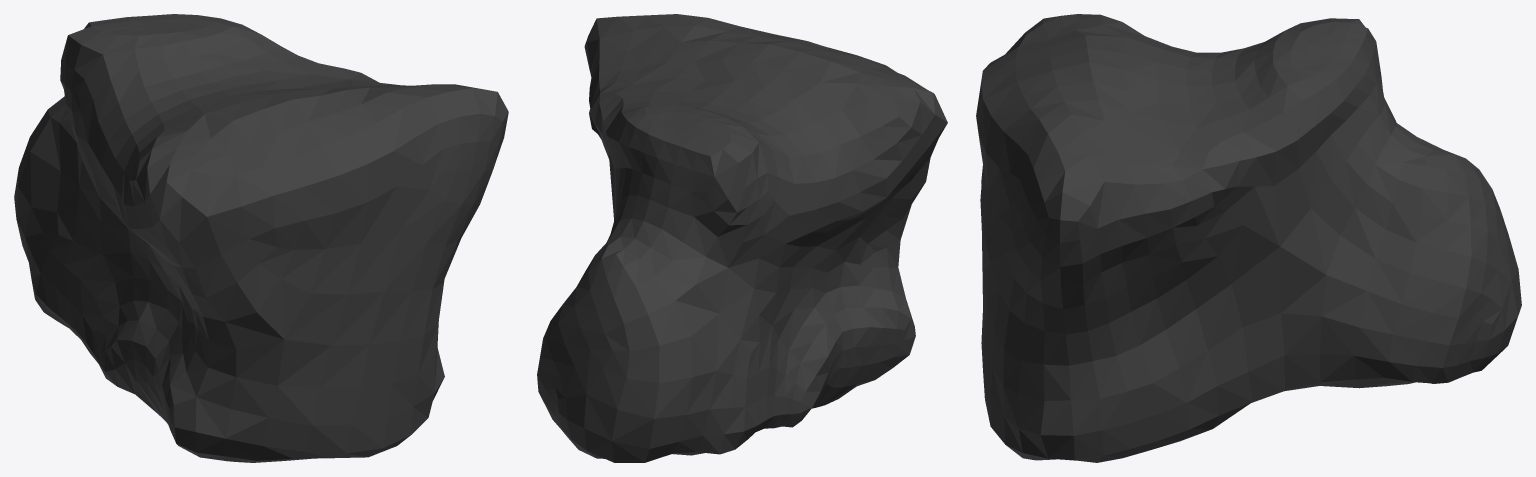
The model's file is Intermediate_carpal_L.glb.
3 views of the same model, side by side, from view 1: azimuth 30°, elevation 25°; view 2: azimuth 150°, elevation 25°; view 3: azimuth 270°, elevation 25° (orthographic). The views are drawn at different scales.
Visible parts, largest first — view 1: Intermediate_carpal_L; view 2: Intermediate_carpal_L; view 3: Intermediate_carpal_L.
Part boxes in pixels (x1,y1,x2,y2): Intermediate_carpal_L: [14, 14, 508, 462]; Intermediate_carpal_L: [537, 14, 947, 462]; Intermediate_carpal_L: [976, 14, 1521, 462].
Size of the model in its own units: 0.0533 by 0.0495 by 0.0663.
Materials: 1 (1 with a texture image).
